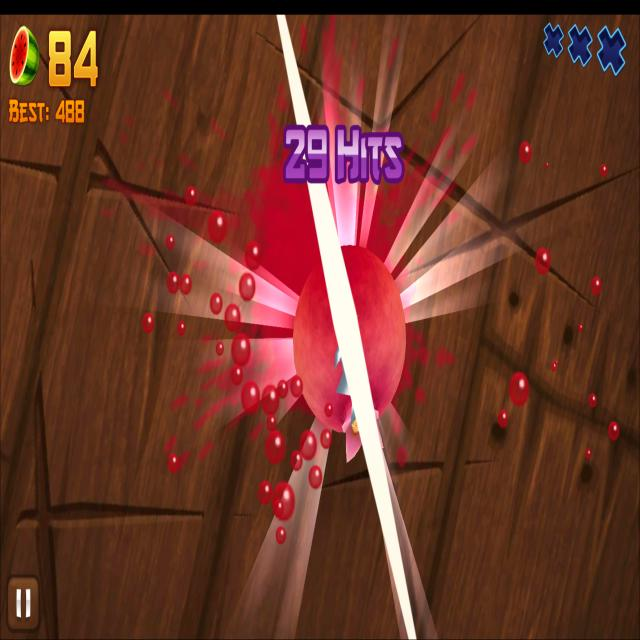fruit: (294, 245, 406, 434)
